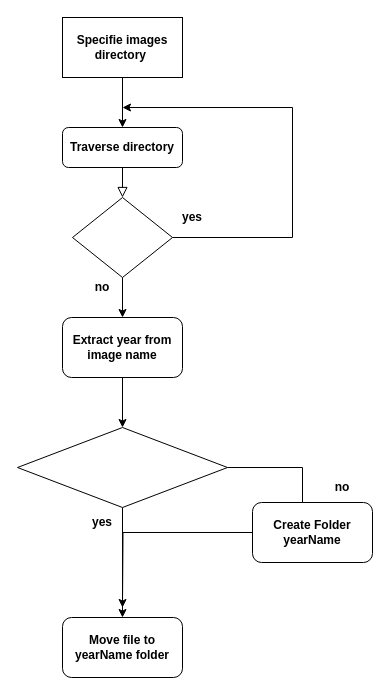
This 390x695 diagram has some shape labels left out. The centre of each missing label's shape, as x and y in pixels:
Check if Folder yearName Exist: [122,467]
isDir: [122,237]
